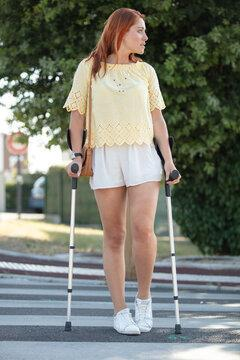crutches: (62, 3, 190, 340)
